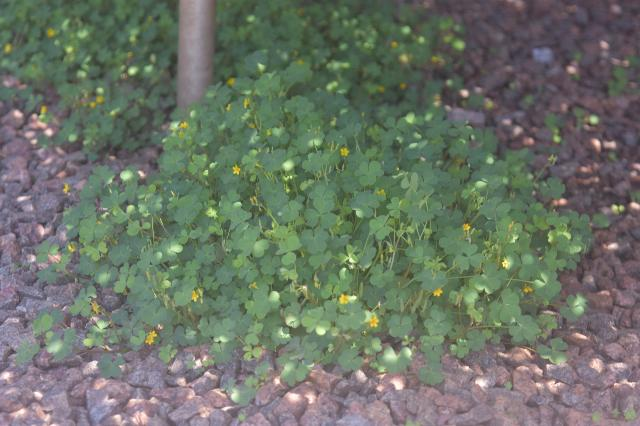MalezaMontesDelPlata: (172, 56, 316, 364), (37, 164, 196, 378), (302, 111, 433, 362), (430, 124, 571, 344), (5, 7, 169, 143)
